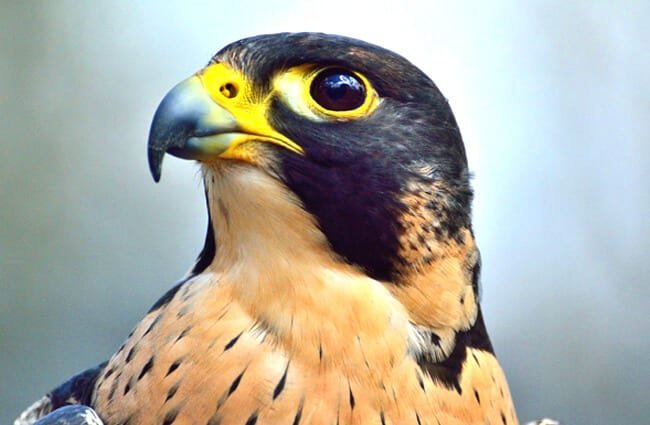Pengoyak Daging: (122, 72, 242, 193)
